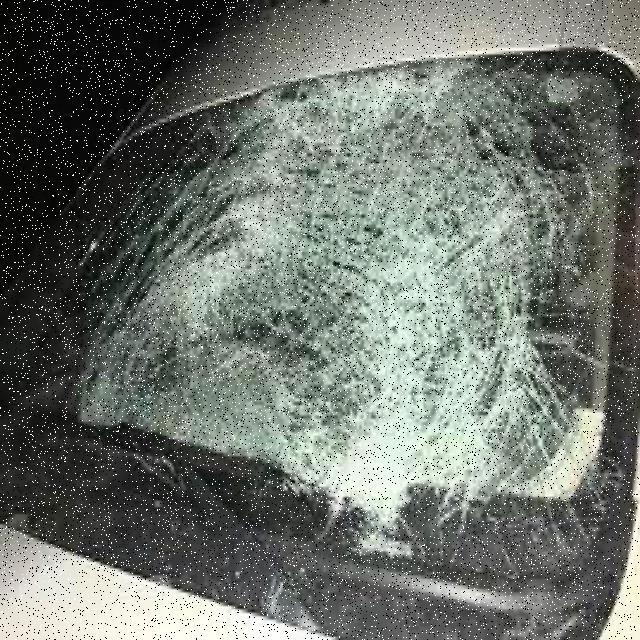Front-Windscreen-Damage: (0, 27, 638, 620)
